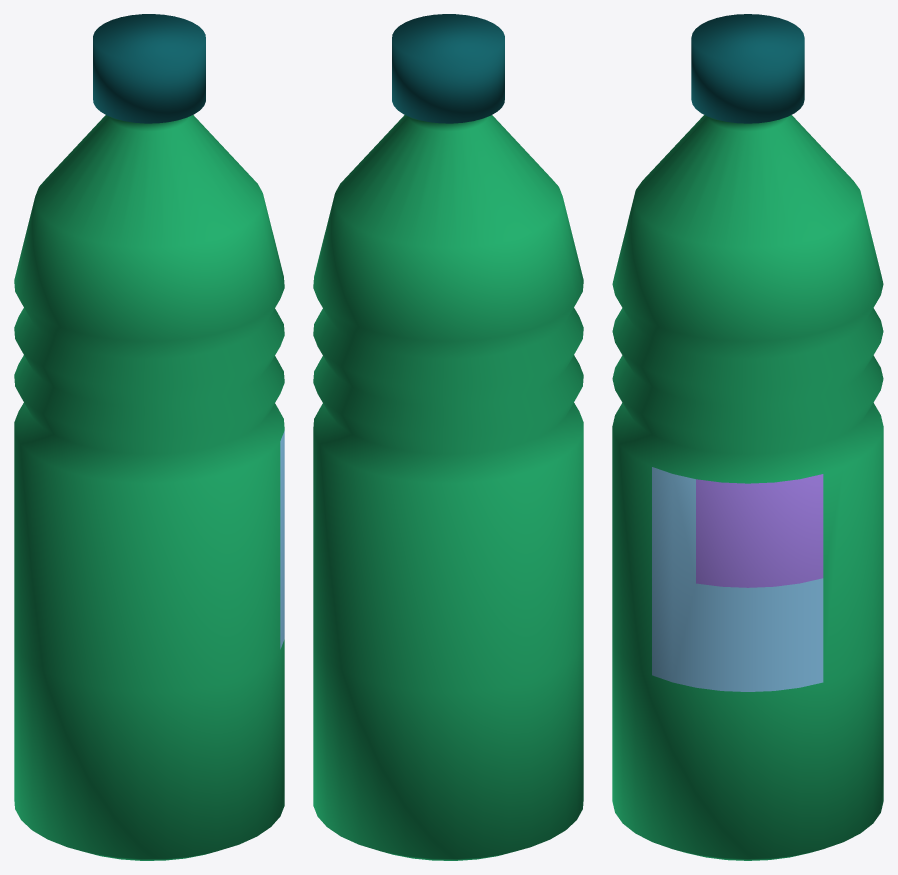
The model's file is Trash_Bottle.glb.
3 renders of one model, left to right at view 1: azimuth 30°, elevation 25°; view 2: azimuth 150°, elevation 25°; view 3: azimuth 270°, elevation 25°, orthographic.
Visible parts, largest first — view 1: Cylinder; view 2: Cylinder; view 3: Cylinder.
Part boxes in pixels (x1,y1,x2,y2): Cylinder: [14, 14, 284, 860]; Cylinder: [313, 14, 583, 860]; Cylinder: [612, 14, 883, 860].
Bounding box in the file's own units: 0.2 × 0.6358 × 0.2.
1 material, 1 textured.
